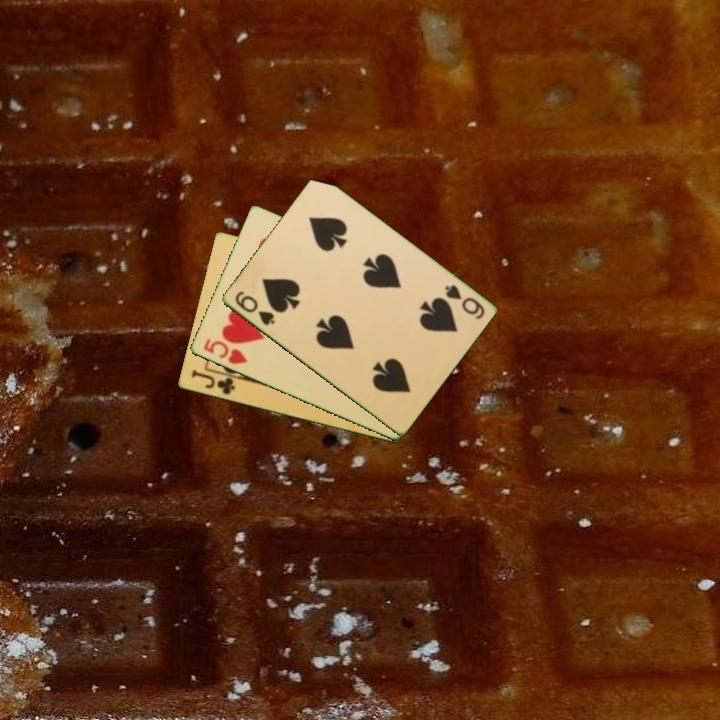5h: (199, 335, 250, 368)
6s: (231, 288, 277, 329), (441, 281, 487, 322)
Jc: (187, 366, 238, 398)
